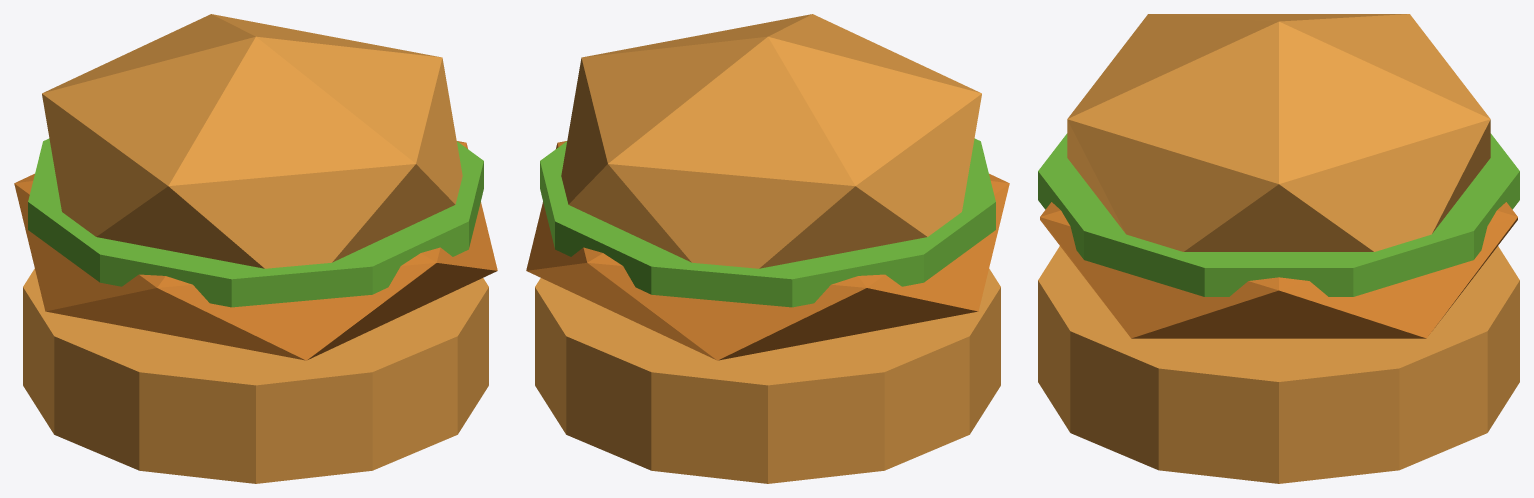
File: chicken_sandwich.glb
3 renders of one model, left to right at view 1: azimuth 30°, elevation 25°; view 2: azimuth 150°, elevation 25°; view 3: azimuth 270°, elevation 25°, orthographic. The views are drawn at different scales.
Parts seen in each view (by area): view 1: chicken_sandwich; view 2: chicken_sandwich; view 3: chicken_sandwich.
Part boxes in pixels (bbox=[...]): chicken_sandwich: bbox=[14, 14, 497, 483]; chicken_sandwich: bbox=[526, 14, 1009, 483]; chicken_sandwich: bbox=[1038, 14, 1519, 483].
Size of the model in its own units: 0.1252 by 0.0991 by 0.12.
